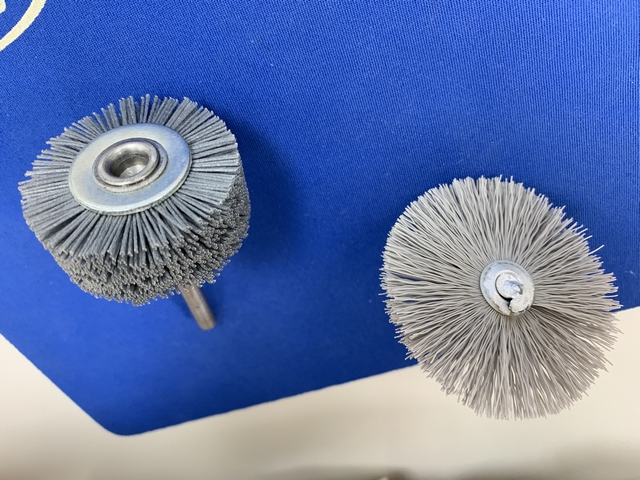TOOL: (371, 160, 610, 428), (355, 242, 628, 433), (415, 164, 594, 422), (370, 164, 606, 356)
Wheel Brush: (15, 92, 260, 346), (9, 83, 288, 282), (73, 87, 271, 353), (27, 86, 215, 334)
